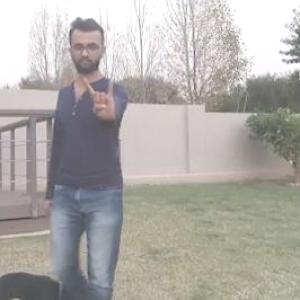takeoff-hand: (78, 64, 125, 122)
